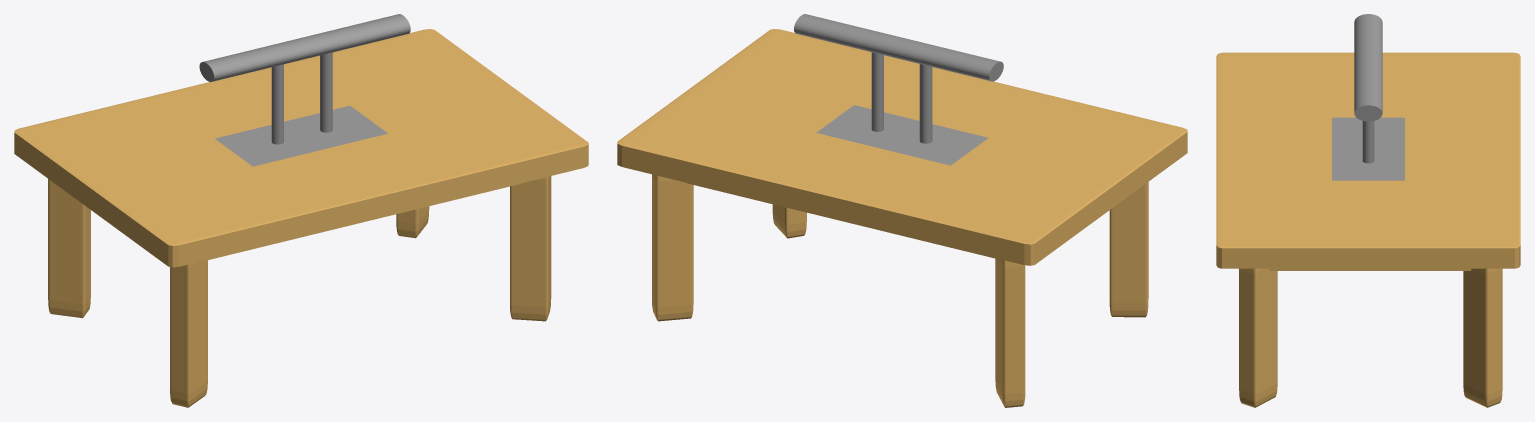
Rendered from table_8.glb.
3 renders of one model, left to right at view 1: azimuth 30°, elevation 25°; view 2: azimuth 150°, elevation 25°; view 3: azimuth 270°, elevation 25°, orthographic. The views are drawn at different scales.
Parts seen in each view (by area): view 1: table_8.362; view 2: table_8.362; view 3: table_8.362.
Part boxes in pixels (bbox=[...]): table_8.362: bbox=[14, 14, 588, 407]; table_8.362: bbox=[617, 14, 1187, 407]; table_8.362: bbox=[1216, 14, 1520, 407].
Bounding box in the file's own units: 1.23 × 0.7686 × 0.8073.
